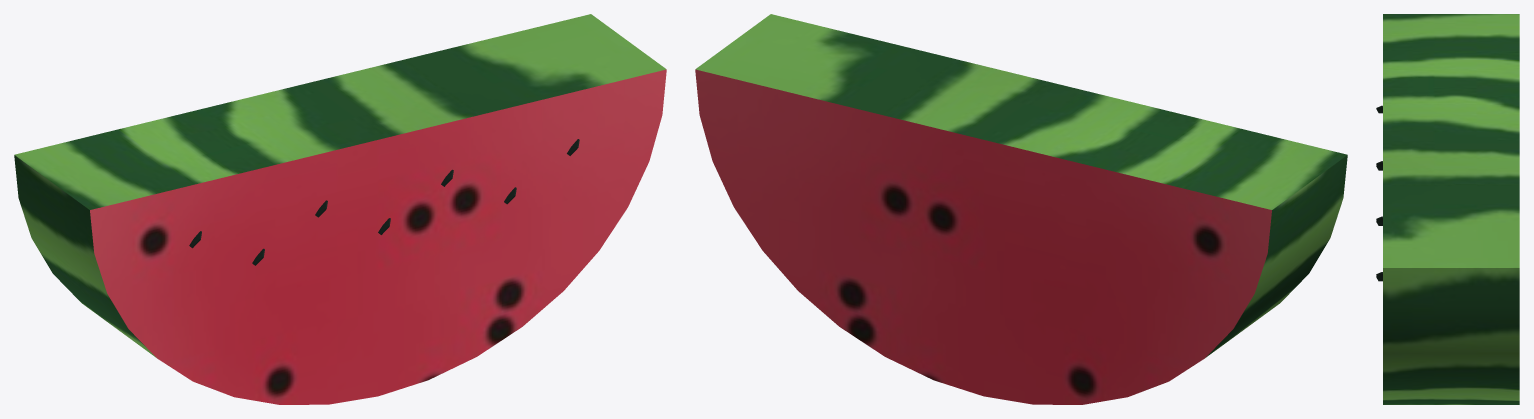
The model's file is fruit_watermelon_wedge.glb.
3 views of the same model, side by side, from view 1: azimuth 30°, elevation 25°; view 2: azimuth 150°, elevation 25°; view 3: azimuth 270°, elevation 25° (orthographic). The views are drawn at different scales.
Visible parts, largest first — view 1: fruit_watermelon_wedge; view 2: fruit_watermelon_wedge; view 3: fruit_watermelon_wedge.
Boxes of the visible parts, x1,y1,x2,y2 form: fruit_watermelon_wedge: (14, 14, 666, 404); fruit_watermelon_wedge: (695, 14, 1347, 404); fruit_watermelon_wedge: (1376, 14, 1519, 404).
Size of the model in its own units: 0.22 by 0.0935 by 0.0524.
Materials: 3 (2 with a texture image).
